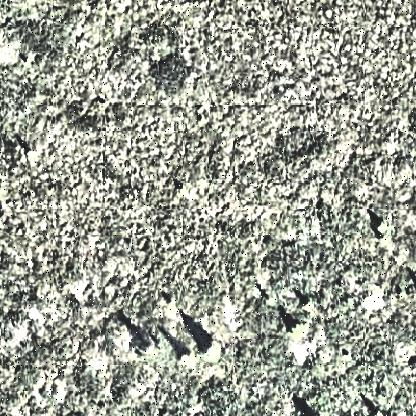tree-top: (134, 333, 156, 360), (200, 338, 223, 362), (289, 319, 305, 335), (179, 348, 193, 364), (372, 217, 386, 231), (300, 300, 314, 314), (25, 145, 35, 160)
